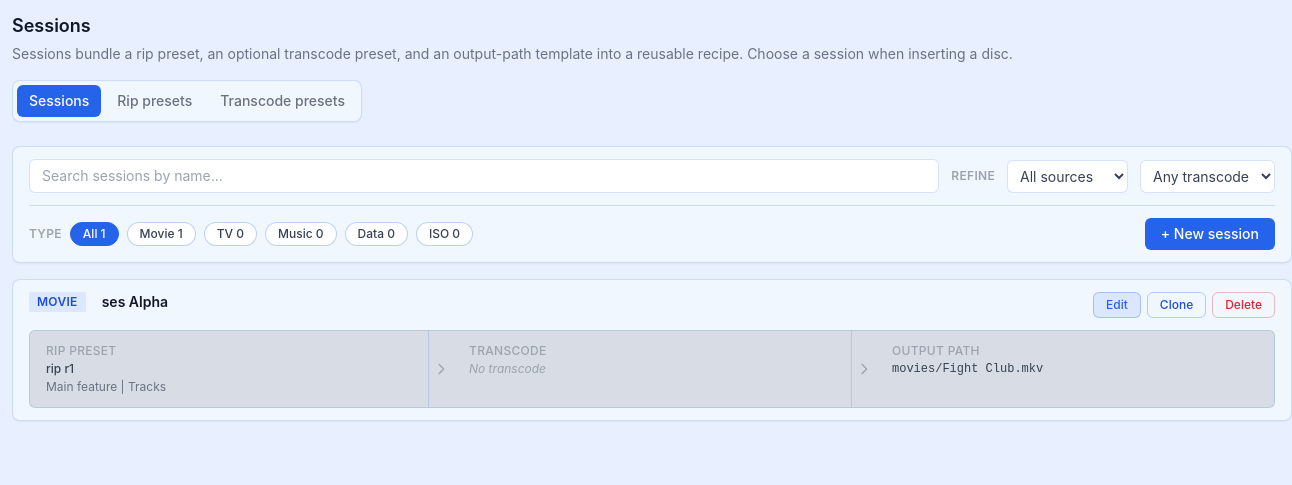
it: tab switches back from a preset tab to sessions
This screenshot has width=1292, height=485.
Click the tab "Rip presets": (155,101) x1=105 y1=85 x2=204 y2=117
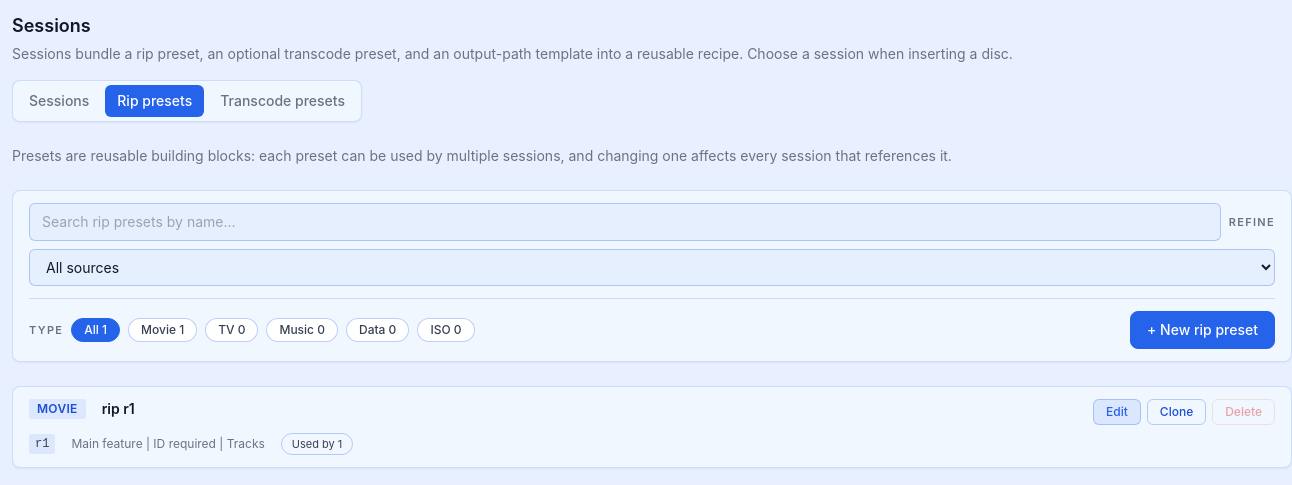
Click the tab "Sessions": (59,101) x1=17 y1=85 x2=101 y2=117
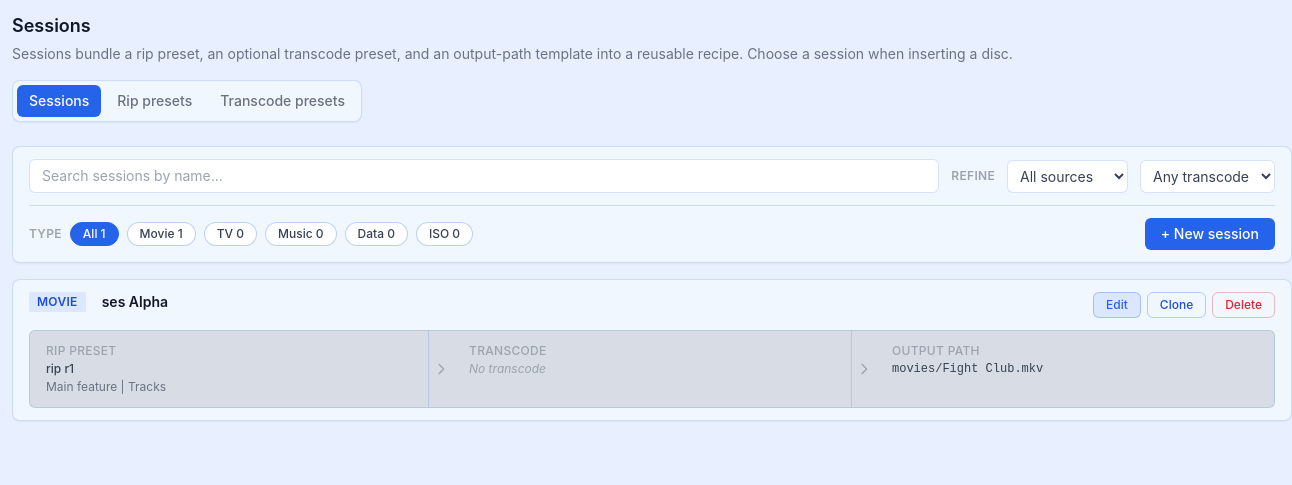
expect the text "ses Alpha" is shown: met, box x1=102 y1=292 x2=168 y2=312
